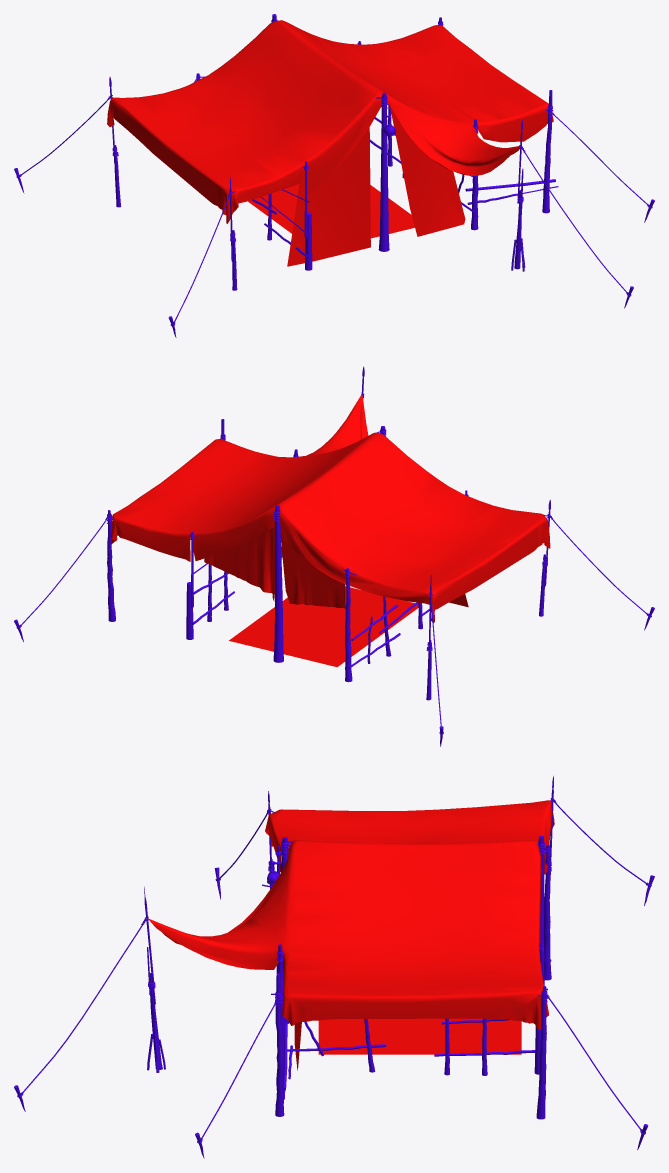
The model's file is tent.fbx.
3 views of the same model, one above another, from view 1: azimuth 30°, elevation 25°; view 2: azimuth 150°, elevation 25°; view 3: azimuth 270°, elevation 25° (orthographic). The views are drawn at different scales.
Visible parts, largest first — view 1: Object382, Object381; view 2: Object382, Object381; view 3: Object382, Object381.
Part boxes in pixels (x1=…): Object382: x1=107, y1=20, x2=553, y2=266; Object381: x1=14, y1=14, x2=654, y2=337; Object382: x1=111, y1=395, x2=550, y2=667; Object381: x1=14, y1=366, x2=654, y2=746; Object382: x1=148, y1=800, x2=554, y2=1070; Object381: x1=14, y1=776, x2=654, y2=1158.
Bounding box in the file's own units: 11238 × 3757 × 10998.
